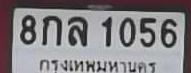0: (118, 16, 134, 46)
1: (101, 16, 111, 46)
5: (139, 17, 155, 46)
6: (160, 18, 176, 46)
8: (19, 14, 35, 44)
A01: (41, 14, 61, 45)
A36: (67, 15, 87, 45)
BKK: (39, 57, 157, 73)
